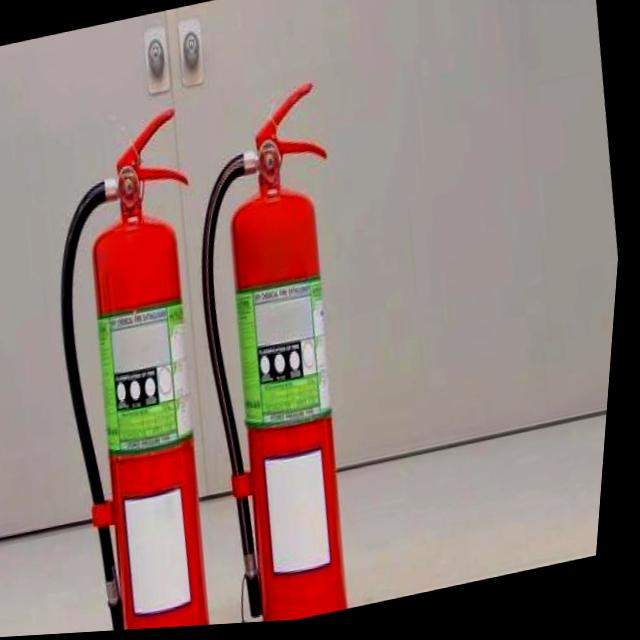FireExtinguisher: (155, 77, 407, 631), (13, 98, 271, 638)
